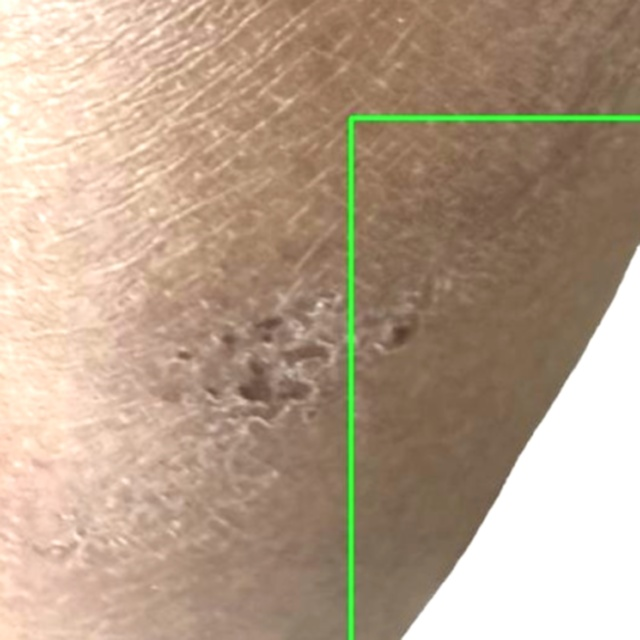Atopic Dermatitis: (350, 117, 639, 639)
